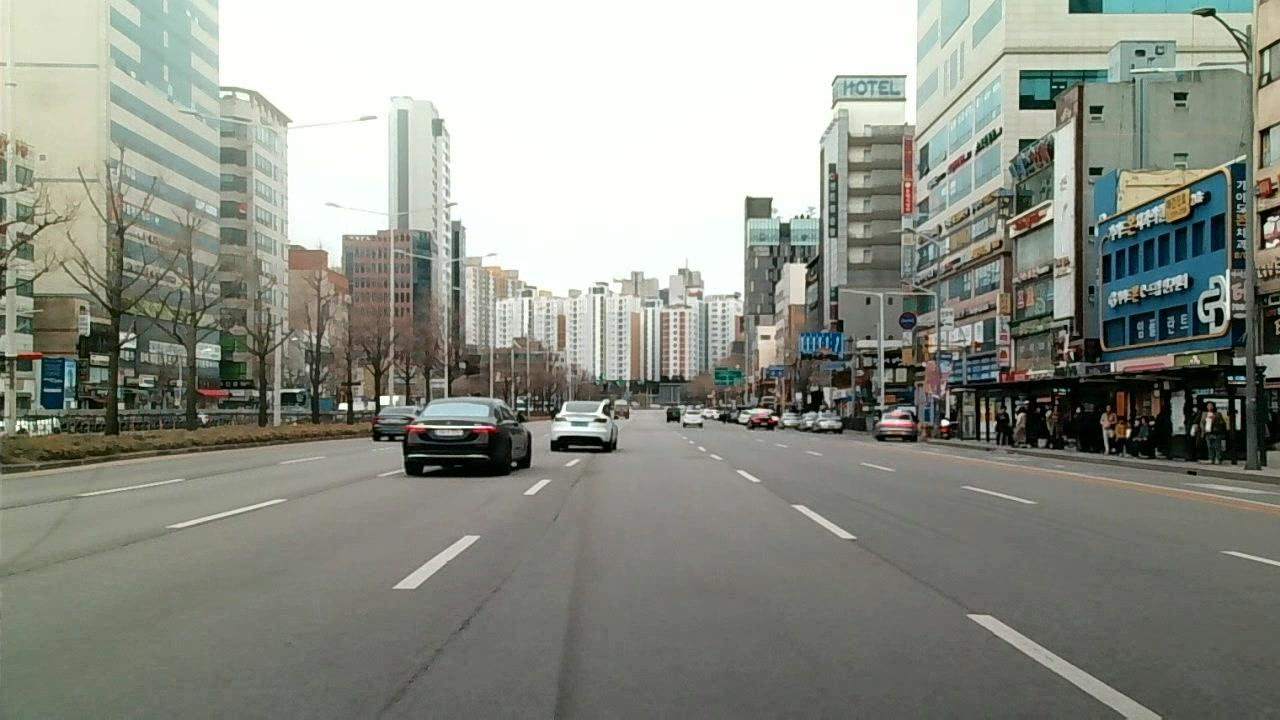banner: (370, 630, 461, 720), (853, 540, 968, 604), (463, 567, 518, 625), (3, 550, 100, 578), (106, 529, 181, 549), (566, 468, 589, 489)
